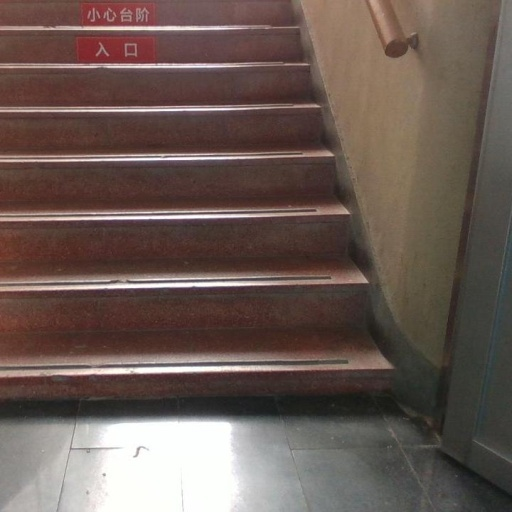Stairs: (0, 0, 393, 399)
